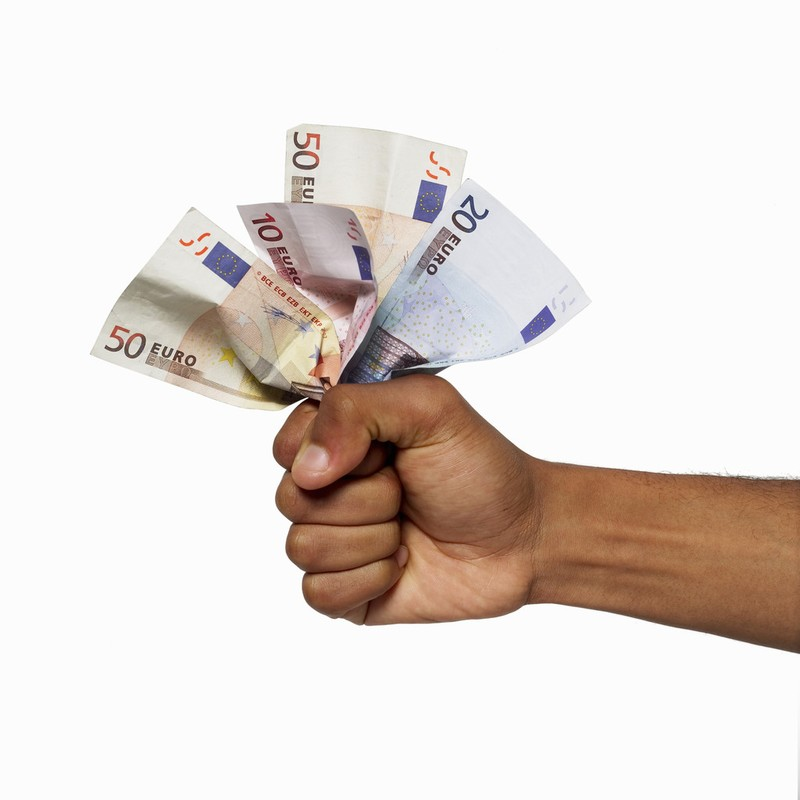billete: (337, 176, 594, 390), (85, 203, 343, 414), (280, 120, 469, 313), (235, 199, 382, 398)
